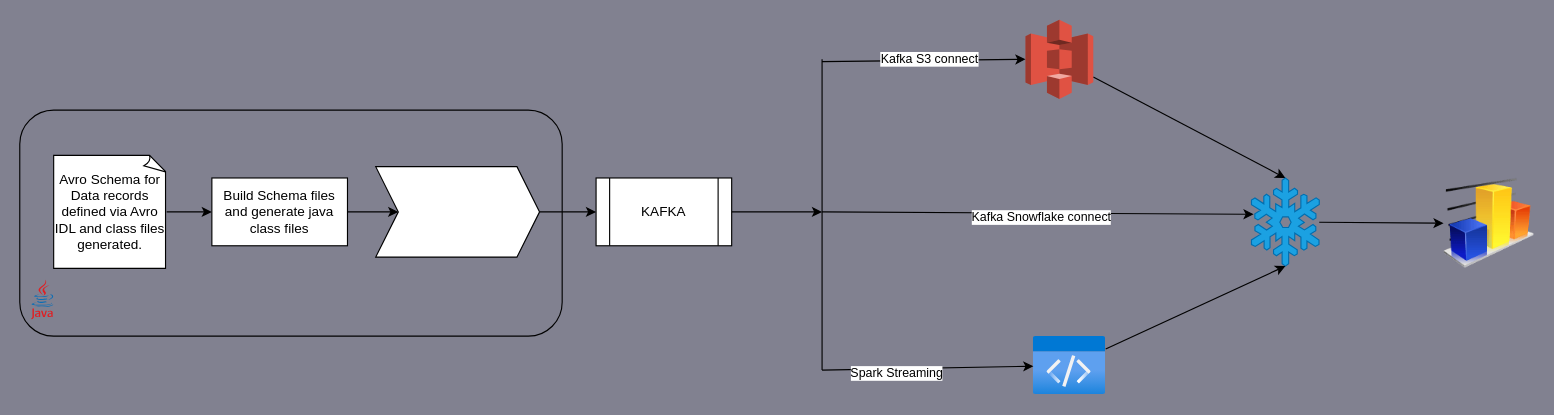
The diagram is 1554 pixels wide and 415 high, and some of its shapes have lost their labels. Each missing label, with the centre of its shape:
"Create fake records and write producer to KAFKA" goes at point 457,211.
"Superset" goes at point 1488,222.
